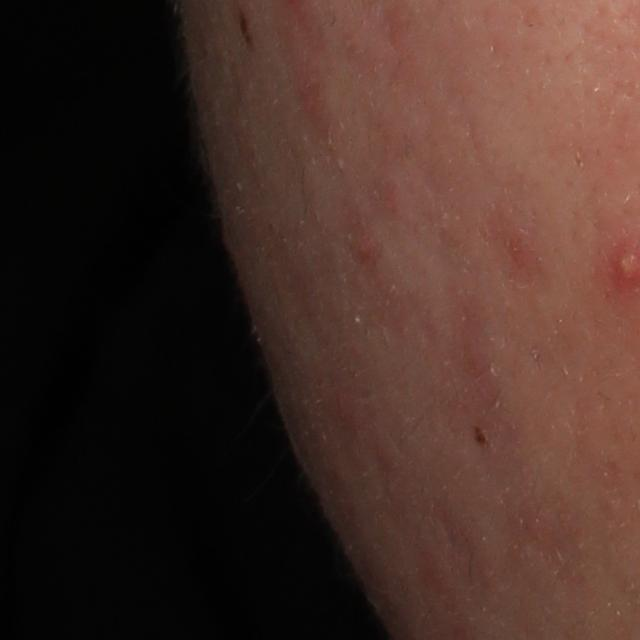nevus: (471, 421, 492, 450)
papule: (353, 241, 376, 268)
